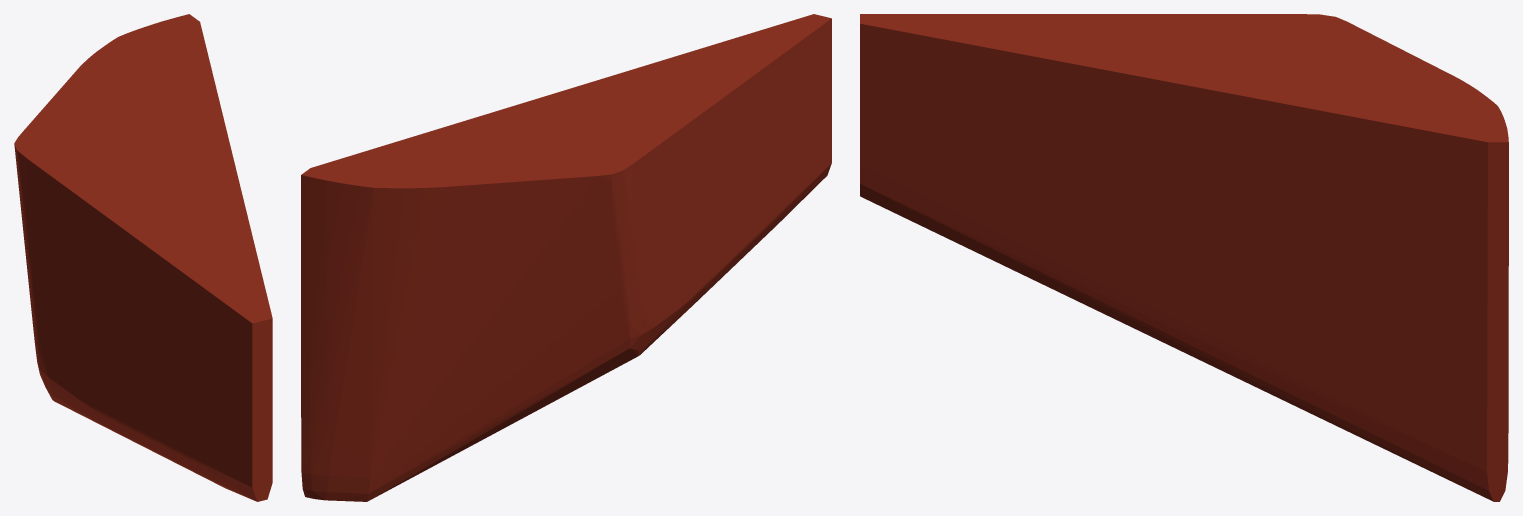
Rendered from left-elbow-0_part_15.obj.
3 renders of one model, left to right at view 1: azimuth 30°, elevation 25°; view 2: azimuth 150°, elevation 25°; view 3: azimuth 270°, elevation 25°, orthographic. The views are drawn at different scales.
Bounding box in the file's own units: 0.0133 × 0.0174 × 0.0284.
